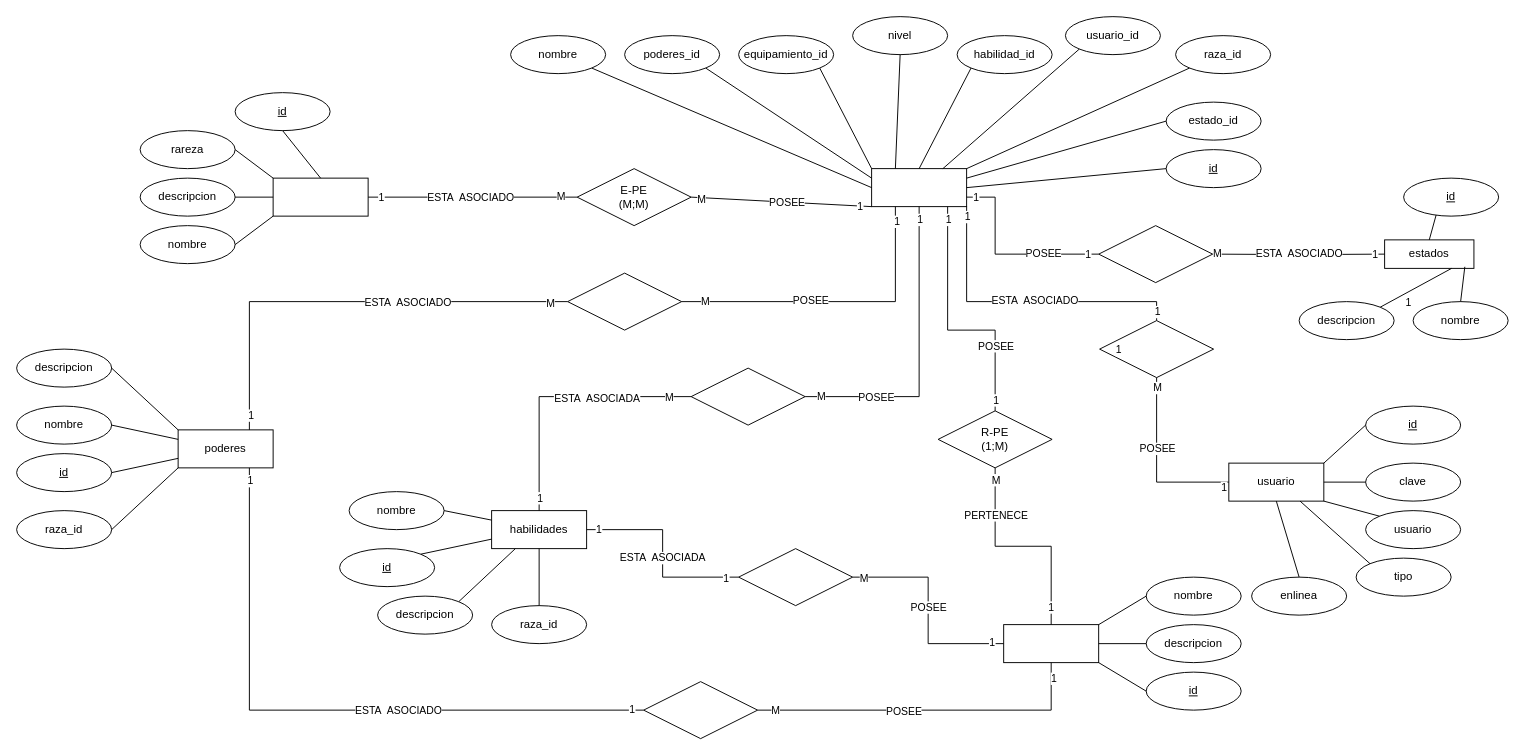
Some shapes in this 1525 by 755 pixel diagram are drawn without their labels. The shapes that lost their labels are listed below. From the top down, each one's box as (x1, y1, x2, y2) in pixels, then its label:
(272, 177, 368, 216): equipamientos
(871, 168, 967, 207): personaje
(1098, 225, 1213, 283): E-PE (1;M)
(567, 272, 682, 330): PO-PE (M;M)
(1099, 320, 1214, 378): U-PE (1;M)
(690, 367, 805, 425): H-PE (M;M)
(738, 548, 853, 606): R-H (1;M)
(1003, 624, 1099, 663): raza
(643, 681, 758, 739): R-PO (1;M)
